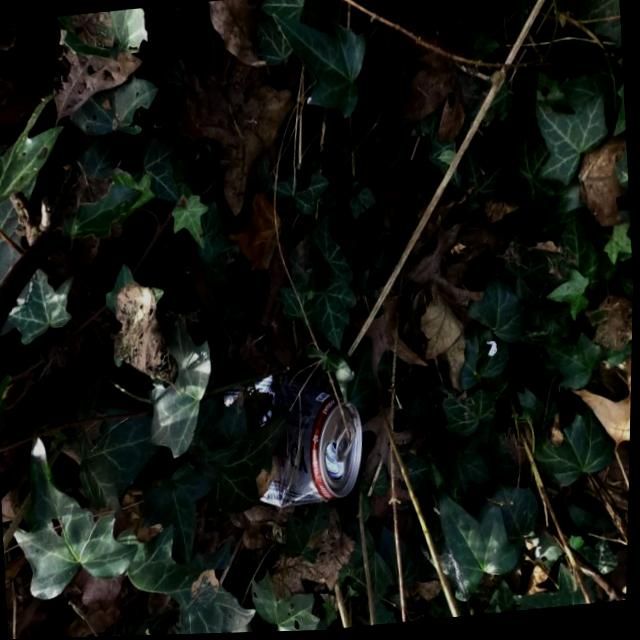Can-Metal: (220, 363, 371, 516)
